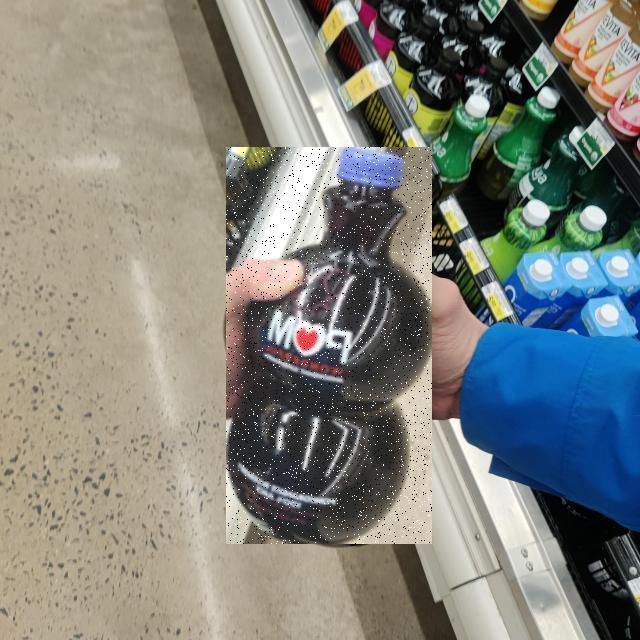Juice: (226, 147, 432, 544)
